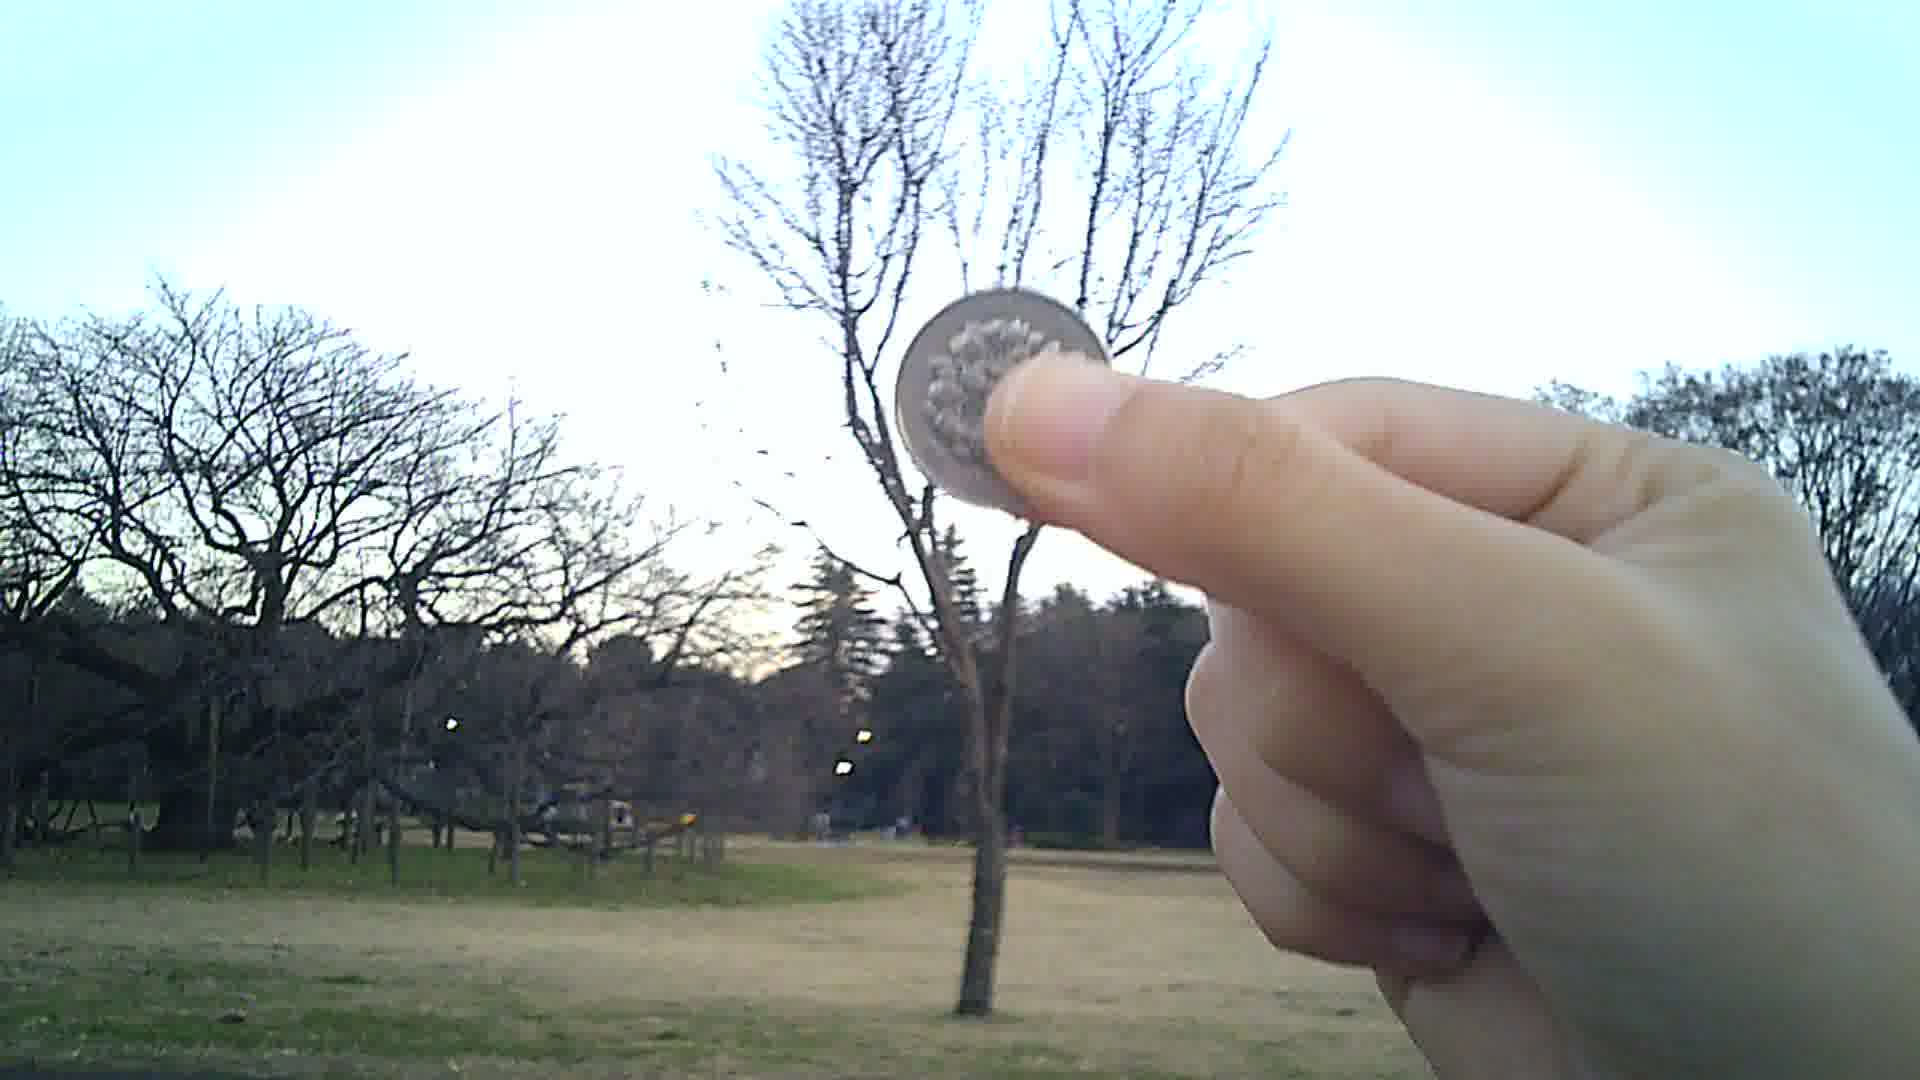100 Yen: (895, 289, 1114, 520)
